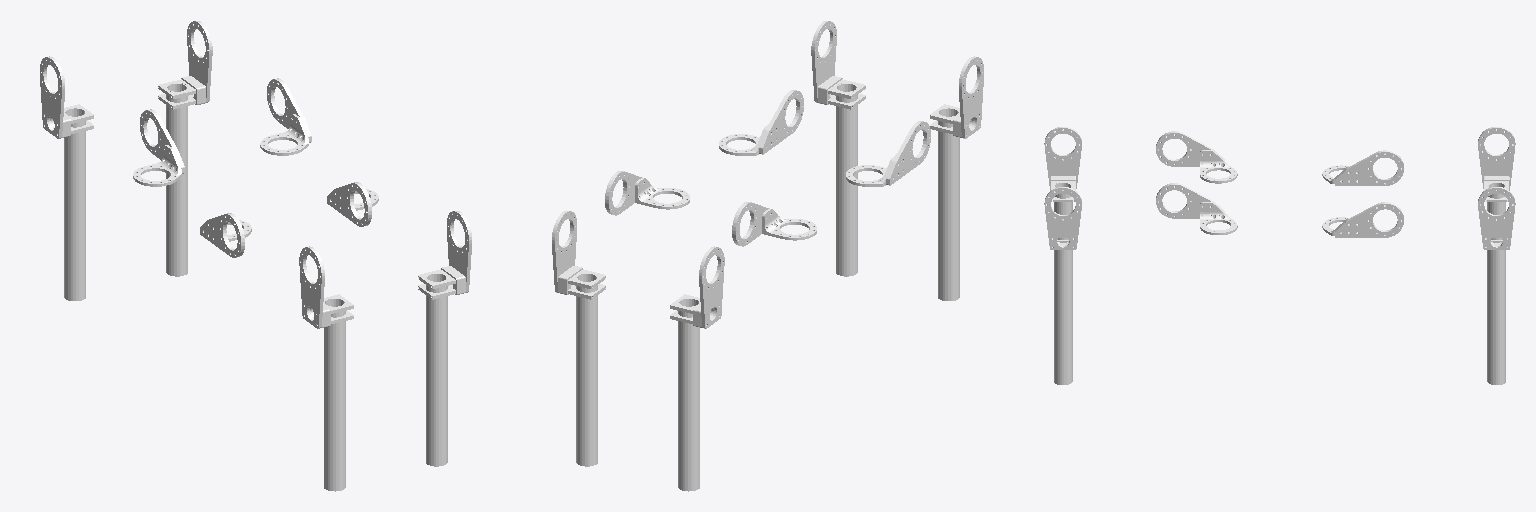
The robot description file, URDF, robot "spibot_new":
<?xml version="1.0" encoding="utf-8"?>
<!-- This URDF was automatically created by SolidWorks to URDF Exporter! Originally created by [author] ([email redacted]) 
     Commit Version: 1.6.0-4-g7f85cfe  Build Version: 1.6.7995.38578
     For more information, please see http://wiki.ros.org/sw_urdf_exporter -->
<robot name="spibot_new">

  <link name="dummy">
    <visual>
      <origin rpy="0 0 0" xyz="0 0 0"/>
      <geometry>
        <box size="0.001 0.001 0.001"/>
      </geometry>
    </visual>
  </link>

  <joint name="dummy_joint" type="fixed">
    <origin rpy="0 0 0" xyz="0 0 0"/>
    <parent link="dummy"/>
    <child link="base_link"/>
  </joint>

  <link name="base_link">
    <inertial>
      <origin xyz="0.12286 -0.00031855 0.029647" rpy="0 0 0" />
      <mass value="6.0594" />
      <inertia ixx="0.024208" ixy="5.0879E-05" ixz="3.1829E-07" iyy="0.015823" iyz="1.2893E-06" izz="0.018498" />
    </inertial>
    <visual>
      <origin xyz="0 0 0" rpy="0 0 0" />
      <geometry>
        <mesh filename="package://sipder_robot/meshes/spibot_new/base_link.STL" />
      </geometry>
      <material name="">
        <color rgba="1 1 1 1" />
      </material>
    </visual>
    <collision>
      <origin xyz="0 0 0" rpy="0 0 0" />
      <geometry>
        <mesh filename="package://sipder_robot/meshes/spibot_new/base_link.STL" />
      </geometry>
    </collision>
  </link>
  <link name="hip4">
    <inertial>
      <origin xyz="0.0327578259031104 -0.0424813673076343 0.0456613574963897" rpy="0 0 0" />
      <mass value="0.192660541070128" />
      <inertia ixx="6.9186801683186E-05" ixy="6.85514694008028E-08" ixz="-1.72344308142681E-06" iyy="0.000103820364311008" iyz="8.72437771435145E-08" izz="7.24920879867499E-05" />
    </inertial>
    <visual>
      <origin xyz="0 0 0" rpy="0 0 0" />
      <geometry>
        <mesh filename="package://sipder_robot/meshes/spibot_new/hip4.STL" />
      </geometry>
      <material name="">
        <color rgba="1 1 1 1" />
      </material>
    </visual>
    <collision>
      <origin xyz="0 0 0" rpy="0 0 0" />
      <geometry>
        <mesh filename="package://sipder_robot/meshes/spibot_new/hip4.STL" />
      </geometry>
    </collision>
  </link>
  <joint name="base2hip4" type="revolute">
    <origin xyz="-0.0975 0.0975 0.059" rpy="0 0 1.5708" />
    <parent link="base_link" />
    <child link="hip4" />
    <axis xyz="0 0 1" />
    <limit lower="0" upper="0" effort="0" velocity="0" />
  </joint>
  <link name="thigh4">
    <inertial>
      <origin xyz="0.189662158014124 6.23203767014385E-05 0.0193991692126326" rpy="0 0 0" />
      <mass value="0.2158302238501" />
      <inertia ixx="7.27486209430672E-05" ixy="-3.58440055908111E-07" ixz="-4.75709753155983E-07" iyy="0.000120673019624553" iyz="3.03342398651781E-09" izz="0.000154581551010227" />
    </inertial>
    <visual>
      <origin xyz="0 0 0" rpy="0 0 0" />
      <geometry>
        <mesh filename="package://sipder_robot/meshes/spibot_new/thigh4.STL" />
      </geometry>
      <material name="">
        <color rgba="1 1 1 1" />
      </material>
    </visual>
    <collision>
      <origin xyz="0 0 0" rpy="0 0 0" />
      <geometry>
        <mesh filename="package://sipder_robot/meshes/spibot_new/thigh4.STL" />
      </geometry>
    </collision>
  </link>
  <joint name="hip2thigh4" type="revolute">
    <origin xyz="0.035 -0.0185 0.048" rpy="1.5708 0 0" />
    <parent link="hip4" />
    <child link="thigh4" />
    <axis xyz="0 0 1" />
    <limit lower="0" upper="0" effort="0" velocity="0" />
  </joint>
  <link name="shank4">
    <inertial>
      <origin xyz="0.250456916156815 6.71951565500706E-08 -0.0183570248775157" rpy="0 0 0" />
      <mass value="0.216923005928971" />
      <inertia ixx="0.000176039354617097" ixy="-8.89913672848324E-10" ixz="-8.94411036736959E-10" iyy="0.000399584677836858" iyz="-2.80304455176751E-11" izz="0.00040101046730147" />
    </inertial>
    <visual>
      <origin xyz="0 0 0" rpy="0 0 0" />
      <geometry>
        <mesh filename="package://sipder_robot/meshes/spibot_new/shank4.STL" />
      </geometry>
      <material name="">
        <color rgba="1 1 1 1" />
      </material>
    </visual>
    <collision>
      <origin xyz="0 0 0" rpy="0 0 0" />
      <geometry>
        <mesh filename="package://sipder_robot/meshes/spibot_new/shank4.STL" />
      </geometry>
    </collision>
  </link>
  <joint name="thigh2shank4" type="revolute">
    <origin xyz="0.2125 0 0" rpy="0 0 -1.5708" />
    <parent link="thigh4" />
    <child link="shank4" />
    <axis xyz="0 0 -1" />
    <limit lower="0" upper="0" effort="0" velocity="0" />
  </joint>
  <link name="hip3">
    <inertial>
      <origin xyz="0.032772550698228 0.0427066485953759 0.0456809869978135" rpy="0 0 0" />
      <mass value="0.191665692794619" />
      <inertia ixx="6.96236772056454E-05" ixy="-7.25381958067419E-08" ixz="-1.72344308142663E-06" iyy="0.000103806231526602" iyz="-9.12305035495634E-08" izz="7.20384498608164E-05" />
    </inertial>
    <visual>
      <origin xyz="0 0 0" rpy="0 0 0" />
      <geometry>
        <mesh filename="package://sipder_robot/meshes/spibot_new/hip3.STL" />
      </geometry>
      <material name="">
        <color rgba="1 1 1 1" />
      </material>
    </visual>
    <collision>
      <origin xyz="0 0 0" rpy="0 0 0" />
      <geometry>
        <mesh filename="package://sipder_robot/meshes/spibot_new/hip3.STL" />
      </geometry>
    </collision>
  </link>
  <joint name="base2hip3" type="revolute">
    <origin xyz="0.0975 0.0975 0.059" rpy="0 0 1.5708" />
    <parent link="base_link" />
    <child link="hip3" />
    <axis xyz="0 0 1" />
    <limit lower="0" upper="0" effort="0" velocity="0" />
  </joint>
  <link name="thigh3">
    <inertial>
      <origin xyz="0.189662158014123 6.23203767017022E-05 0.0193991692126335" rpy="0 0 0" />
      <mass value="0.215830223850104" />
      <inertia ixx="7.27486209430669E-05" ixy="-3.58440055908104E-07" ixz="-4.75709753156031E-07" iyy="0.000120673019624552" iyz="3.03342398654635E-09" izz="0.000154581551010226" />
    </inertial>
    <visual>
      <origin xyz="0 0 0" rpy="0 0 0" />
      <geometry>
        <mesh filename="package://sipder_robot/meshes/spibot_new/thigh3.STL" />
      </geometry>
      <material name="">
        <color rgba="1 1 1 1" />
      </material>
    </visual>
    <collision>
      <origin xyz="0 0 0" rpy="0 0 0" />
      <geometry>
        <mesh filename="package://sipder_robot/meshes/spibot_new/thigh3.STL" />
      </geometry>
    </collision>
  </link>
  <joint name="hip2thigh3" type="revolute">
    <origin xyz="0.035 0.0185 0.048" rpy="-1.5708 0 0" />
    <parent link="hip3" />
    <child link="thigh3" />
    <axis xyz="0 0 -1" />
    <limit lower="0" upper="0" effort="0" velocity="0" />
  </joint>
  <link name="shank3">
    <inertial>
      <origin xyz="0.250456916156807 6.71951514430447E-08 -0.018357024877524" rpy="0 0 0" />
      <mass value="0.216923005928878" />
      <inertia ixx="0.000176039354617096" ixy="-8.89913683565727E-10" ixz="-8.94411055547596E-10" iyy="0.000399584677836863" iyz="-2.8030439500731E-11" izz="0.00040101046730146" />
    </inertial>
    <visual>
      <origin xyz="0 0 0" rpy="0 0 0" />
      <geometry>
        <mesh filename="package://sipder_robot/meshes/spibot_new/shank3.STL" />
      </geometry>
      <material name="">
        <color rgba="1 1 1 1" />
      </material>
    </visual>
    <collision>
      <origin xyz="0 0 0" rpy="0 0 0" />
      <geometry>
        <mesh filename="package://sipder_robot/meshes/spibot_new/shank3.STL" />
      </geometry>
    </collision>
  </link>
  <joint name="thigh2shank3" type="revolute">
    <origin xyz="0.2125 0 0" rpy="0 0 1.5708" />
    <parent link="thigh3" />
    <child link="shank3" />
    <axis xyz="0 0 -1" />
    <limit lower="0" upper="0" effort="0" velocity="0" />
  </joint>
  <link name="hip2">
    <inertial>
      <origin xyz="0.0327578259031094 -0.042481367307634 0.0456613574963895" rpy="0 0 0" />
      <mass value="0.192660541070126" />
      <inertia ixx="6.91868016831854E-05" ixy="6.85514694008617E-08" ixz="-1.72344308142691E-06" iyy="0.000103820364311007" iyz="8.72437771435545E-08" izz="7.24920879867495E-05" />
    </inertial>
    <visual>
      <origin xyz="0 0 0" rpy="0 0 0" />
      <geometry>
        <mesh filename="package://sipder_robot/meshes/spibot_new/hip2.STL" />
      </geometry>
      <material name="">
        <color rgba="1 1 1 1" />
      </material>
    </visual>
    <collision>
      <origin xyz="0 0 0" rpy="0 0 0" />
      <geometry>
        <mesh filename="package://sipder_robot/meshes/spibot_new/hip2.STL" />
      </geometry>
    </collision>
  </link>
  <joint name="base2hip2" type="revolute">
    <origin xyz="0.0975 -0.0975 0.059" rpy="0 0 -1.5708" />
    <parent link="base_link" />
    <child link="hip2" />
    <axis xyz="0 0 1" />
    <limit lower="0" upper="0" effort="0" velocity="0" />
  </joint>
  <link name="thigh2">
    <inertial>
      <origin xyz="0.189662158014124 6.23203767022573E-05 0.019399169212634" rpy="0 0 0" />
      <mass value="0.215830223850104" />
      <inertia ixx="7.2748620943066E-05" ixy="-3.58440055908529E-07" ixz="-4.75709753155983E-07" iyy="0.000120673019624552" iyz="3.03342398638189E-09" izz="0.000154581551010224" />
    </inertial>
    <visual>
      <origin xyz="0 0 0" rpy="0 0 0" />
      <geometry>
        <mesh filename="package://sipder_robot/meshes/spibot_new/thigh2.STL" />
      </geometry>
      <material name="">
        <color rgba="1 1 1 1" />
      </material>
    </visual>
    <collision>
      <origin xyz="0 0 0" rpy="0 0 0" />
      <geometry>
        <mesh filename="package://sipder_robot/meshes/spibot_new/thigh2.STL" />
      </geometry>
    </collision>
  </link>
  <joint name="hip2thigh2" type="revolute">
    <origin xyz="0.035 -0.0185 0.048" rpy="1.5708 0 0" />
    <parent link="hip2" />
    <child link="thigh2" />
    <axis xyz="0 0 1" />
    <limit lower="0" upper="0" effort="0" velocity="0" />
  </joint>
  <link name="shank2">
    <inertial>
      <origin xyz="0.250456916156772 6.71951356778777E-08 -0.0183570248775542" rpy="0 0 0" />
      <mass value="0.216923005928577" />
      <inertia ixx="0.000176039354617092" ixy="-8.899137163724E-10" ixz="-8.94411124126908E-10" iyy="0.000399584677836885" iyz="-2.80304188233295E-11" izz="0.000401010467301432" />
    </inertial>
    <visual>
      <origin xyz="0 0 0" rpy="0 0 0" />
      <geometry>
        <mesh filename="package://sipder_robot/meshes/spibot_new/shank2.STL" />
      </geometry>
      <material name="">
        <color rgba="1 1 1 1" />
      </material>
    </visual>
    <collision>
      <origin xyz="0 0 0" rpy="0 0 0" />
      <geometry>
        <mesh filename="package://sipder_robot/meshes/spibot_new/shank2.STL" />
      </geometry>
    </collision>
  </link>
  <joint name="thigh2shank2" type="revolute">
    <origin xyz="0.2125 0 0" rpy="0 0 -1.5708" />
    <parent link="thigh2" />
    <child link="shank2" />
    <axis xyz="0 0 -1" />
    <limit lower="0" upper="0" effort="0" velocity="0" />
  </joint>
  <link name="hip1">
    <inertial>
      <origin xyz="0.0327725506982288 0.0427066485953773 0.0456809869978126" rpy="0 0 0" />
      <mass value="0.191665692794623" />
      <inertia ixx="6.96236772056445E-05" ixy="-7.25381958067844E-08" ixz="-1.72344308142751E-06" iyy="0.0001038062315266" iyz="-9.12305035494217E-08" izz="7.20384498608154E-05" />
    </inertial>
    <visual>
      <origin xyz="0 0 0" rpy="0 0 0" />
      <geometry>
        <mesh filename="package://sipder_robot/meshes/spibot_new/hip1.STL" />
      </geometry>
      <material name="">
        <color rgba="1 1 1 1" />
      </material>
    </visual>
    <collision>
      <origin xyz="0 0 0" rpy="0 0 0" />
      <geometry>
        <mesh filename="package://sipder_robot/meshes/spibot_new/hip1.STL" />
      </geometry>
    </collision>
  </link>
  <joint name="base2hip1" type="revolute">
    <origin xyz="-0.0975 -0.0975 0.059" rpy="0 0 -1.5708" />
    <parent link="base_link" />
    <child link="hip1" />
    <axis xyz="0 0 1" />
    <limit lower="0" upper="0" effort="0" velocity="0" />
  </joint>
  <link name="thigh1">
    <inertial>
      <origin xyz="0.189662158014123 6.23203767019659E-05 0.0193991692126337" rpy="0 0 0" />
      <mass value="0.215830223850103" />
      <inertia ixx="7.27486209430669E-05" ixy="-3.584400559076E-07" ixz="-4.75709753155998E-07" iyy="0.000120673019624553" iyz="3.0334239864579E-09" izz="0.000154581551010226" />
    </inertial>
    <visual>
      <origin xyz="0 0 0" rpy="0 0 0" />
      <geometry>
        <mesh filename="package://sipder_robot/meshes/spibot_new/thigh1.STL" />
      </geometry>
      <material name="">
        <color rgba="1 1 1 1" />
      </material>
    </visual>
    <collision>
      <origin xyz="0 0 0" rpy="0 0 0" />
      <geometry>
        <mesh filename="package://sipder_robot/meshes/spibot_new/thigh1.STL" />
      </geometry>
    </collision>
  </link>
  <joint name="hip2thigh1" type="revolute">
    <origin xyz="0.035 0.0185 0.048" rpy="-1.5708 0 0" />
    <parent link="hip1" />
    <child link="thigh1" />
    <axis xyz="0 0 -1" />
    <limit lower="0" upper="0" effort="0" velocity="0" />
  </joint>
  <link name="shank1">
    <inertial>
      <origin xyz="0.250456916156802 6.71951481123756E-08 -0.0183570248775285" rpy="0 0 0" />
      <mass value="0.216923005928831" />
      <inertia ixx="0.000176039354617094" ixy="-8.89913689575034E-10" ixz="-8.94411065972622E-10" iyy="0.000399584677836865" iyz="-2.80304362120279E-11" izz="0.000401010467301455" />
    </inertial>
    <visual>
      <origin xyz="0 0 0" rpy="0 0 0" />
      <geometry>
        <mesh filename="package://sipder_robot/meshes/spibot_new/shank1.STL" />
      </geometry>
      <material name="">
        <color rgba="1 1 1 1" />
      </material>
    </visual>
    <collision>
      <origin xyz="0 0 0" rpy="0 0 0" />
      <geometry>
        <mesh filename="package://sipder_robot/meshes/spibot_new/shank1.STL" />
      </geometry>
    </collision>
  </link>
  <joint name="thigh2shank1" type="revolute">
    <origin xyz="0.2125 0 0" rpy="0 0 1.5708" />
    <parent link="thigh1" />
    <child link="shank1" />
    <axis xyz="0 0 -1" />
    <limit lower="0" upper="0" effort="0" velocity="0" />
  </joint>
</robot>

--- What the picture shows (computed from the rendered views, not written in the file) ---
Views: 3 orthographic renders of the robot side by side, from view 1: azimuth 30°, elevation 25°; view 2: azimuth 150°, elevation 25°; view 3: azimuth 270°, elevation 25°.
Model spibot_new with 14 links and 13 joints (12 revolute, 1 fixed), rooted at dummy, posed all joints at 0.
Visible links, largest first — view 1: shank2, shank1, shank4, shank3, hip4, hip3, hip1, hip2; view 2: shank3, shank4, shank2, shank1, hip1, hip2, hip4, hip3; view 3: shank3, shank2, shank4, shank1, hip2, hip1, hip3, hip4.
Link boxes in pixels (x1=…): shank2: x1=418, y1=211, x2=471, y2=466; shank1: x1=299, y1=246, x2=353, y2=491; shank4: x1=40, y1=56, x2=93, y2=300; shank3: x1=158, y1=21, x2=212, y2=276; hip4: x1=133, y1=109, x2=184, y2=186; hip3: x1=260, y1=78, x2=311, y2=155; hip1: x1=200, y1=213, x2=251, y2=257; hip2: x1=327, y1=182, x2=378, y2=226; shank3: x1=552, y1=211, x2=605, y2=466; shank4: x1=670, y1=246, x2=724, y2=491; shank2: x1=811, y1=21, x2=865, y2=276; shank1: x1=930, y1=56, x2=983, y2=300; hip1: x1=846, y1=121, x2=930, y2=186; hip2: x1=719, y1=90, x2=803, y2=155; hip4: x1=732, y1=202, x2=816, y2=246; hip3: x1=605, y1=171, x2=689, y2=215; shank3: x1=1478, y1=187, x2=1515, y2=384; shank2: x1=1044, y1=187, x2=1081, y2=384; shank4: x1=1478, y1=127, x2=1515, y2=214; shank1: x1=1044, y1=127, x2=1081, y2=214; hip2: x1=1156, y1=183, x2=1237, y2=234; hip1: x1=1156, y1=131, x2=1237, y2=183; hip3: x1=1322, y1=202, x2=1403, y2=237; hip4: x1=1322, y1=150, x2=1403, y2=185.
Bounding box of the posed robot: 0.273 × 0.7499 × 0.3574 m (x, y, z).
8 mesh visuals loaded from 13 distinct referenced files (8 binary STL); not drawn: 5 (reference not matched to a file when rendering).